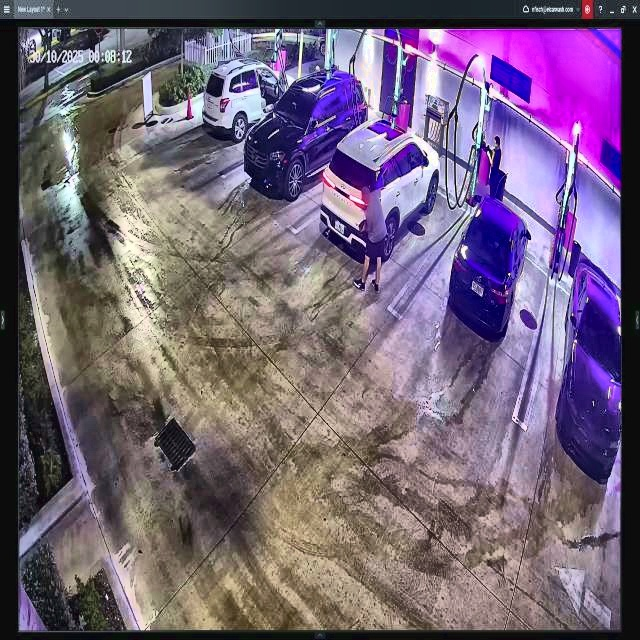Car: (323, 119, 443, 260), (246, 74, 369, 194), (449, 193, 530, 334)
